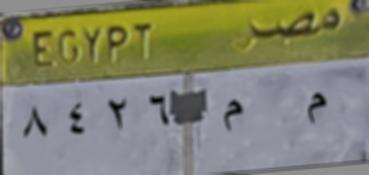2: (106, 90, 135, 136)
4: (68, 98, 92, 144)
6: (146, 91, 175, 134)
8: (20, 102, 50, 145)
meem: (213, 91, 252, 144), (291, 88, 332, 134)
